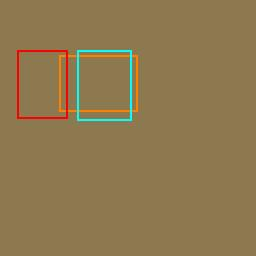Face Mask: (77, 50, 131, 120)
Fire: (17, 50, 67, 118)
Helmet: (58, 55, 137, 112)
